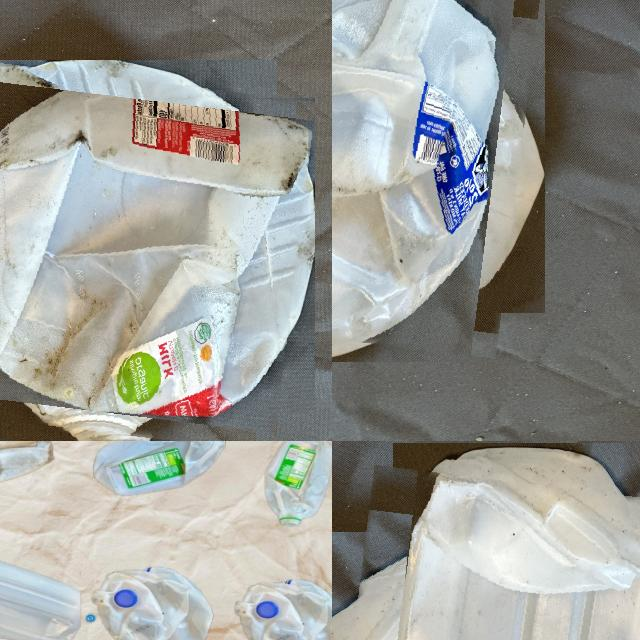milk-jug: (0, 68, 306, 441), (332, 0, 530, 347), (338, 475, 640, 640), (95, 564, 209, 640), (89, 441, 233, 500), (0, 546, 84, 637), (259, 441, 332, 524), (233, 579, 332, 640)
